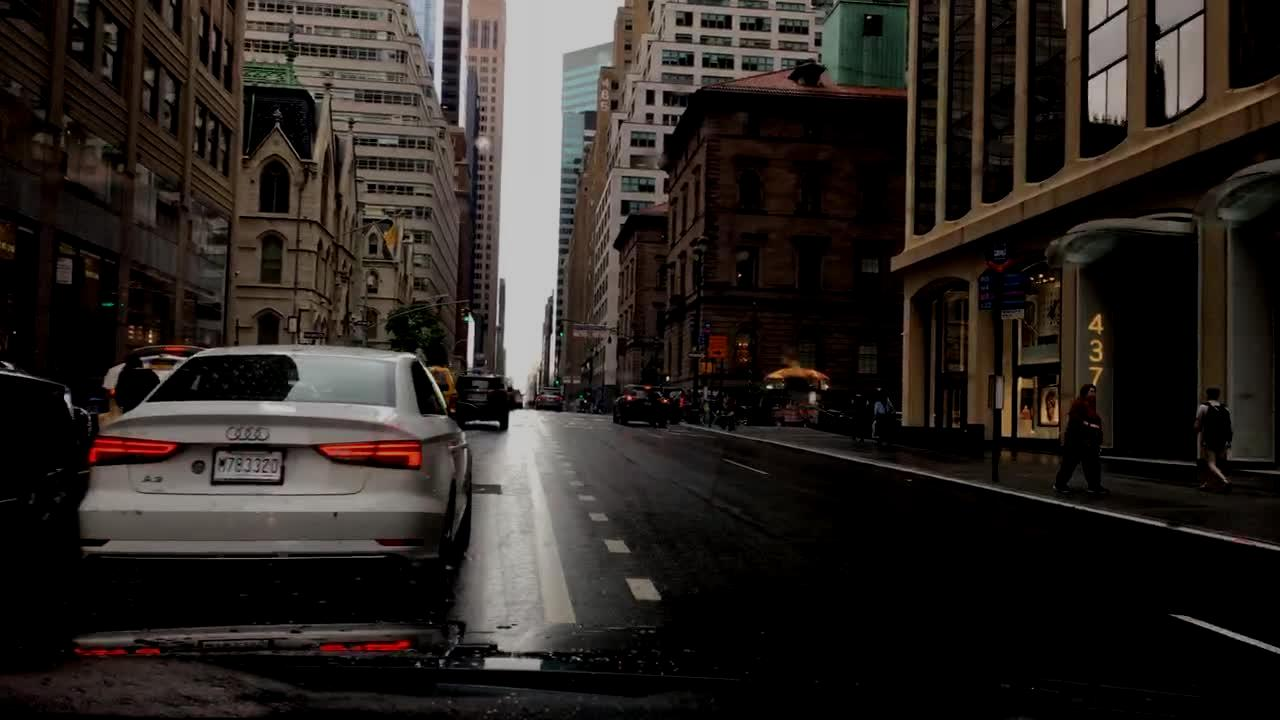Audi: (218, 420, 271, 448)
